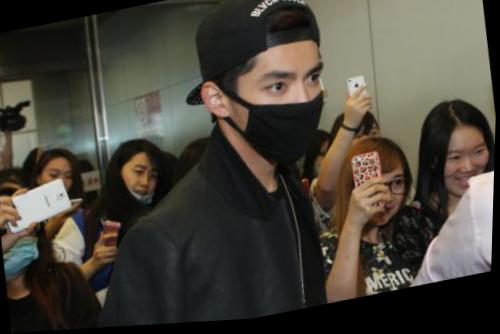NONE: (443, 138, 495, 209), (361, 173, 411, 234), (40, 162, 79, 208)
OK: (237, 53, 337, 175)
WRONG: (122, 159, 163, 211)
